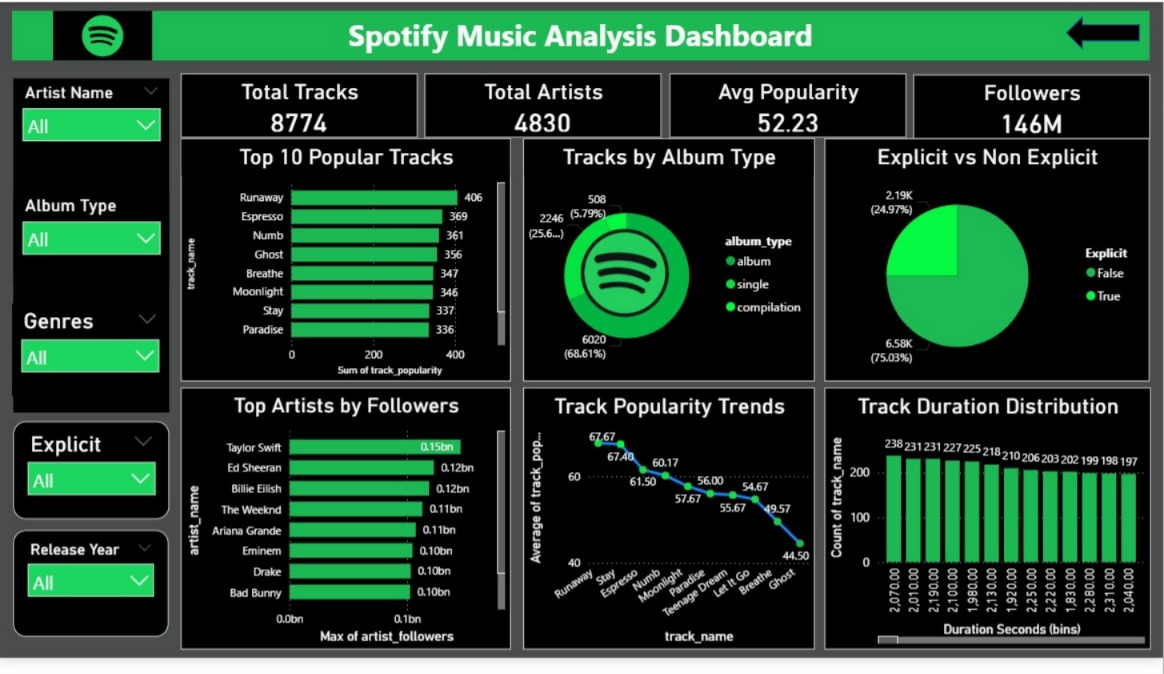

What the dashboard file says about the page in this screenshot:
{"tool":"powerbi","page":{"name":"Dashboard","canvas":[1280,720],"ordinal":1},"visuals":[{"type":"slicer","fields":{"Values":["track_data_final.artist_name"]},"box":[17.8,83.7,171.5,366.4],"z":0},{"type":"slicer","fields":{"Values":["track_data_final.album_type"]},"box":[17.8,207.2,171.5,100.2],"z":1000},{"type":"slicer","fields":{"Values":["track_data_final.artist_genres"]},"box":[16.5,330.7,171.5,101.5],"z":2000},{"type":"slicer","fields":{"Values":["track_data_final.explicit"]},"box":[17.8,459.7,171.5,107],"z":3000},{"type":"slicer","fields":{"Values":["track_data_final.album_release_date"]},"box":[17.8,579.1,170.2,116.6],"z":4000},{"type":"card","title":"Total Tracks","fields":{"Values":["CountNonNull(track_data_final.track_id)"]},"box":[201.4,78.6,260,70],"z":5000},{"type":"card","title":"Total Artists","fields":{"Values":["Count(track_data_final.album_name)"]},"box":[469.3,78.2,260,70],"z":6000},{"type":"card","title":"Avg Popularity","fields":{"Values":["Avg(track_data_final.track_popularity)"]},"box":[738.3,78.2,260,70],"z":7000},{"type":"card","title":"Followers","fields":{"Values":["Max(track_data_final.artist_followers)"]},"box":[1005.7,80,260,70],"z":8000},{"type":"clusteredBarChart","title":"Top 10 Popular Tracks","fields":{"Category":["track_data_final.track_name"],"Y":["Sum(track_data_final.track_popularity)"]},"box":[201.7,149.6,362.3,266.2],"z":9000},{"type":"donutChart","title":" Tracks by Album Type","fields":{"Category":["track_data_final.album_type"],"Y":["CountNonNull(track_data_final.track_id)"]},"box":[577.1,150,320,266],"z":10000},{"type":"pieChart","title":"Explicit vs Non Explicit","fields":{"Category":["track_data_final.explicit"],"Y":["CountNonNull(track_data_final.track_name)"]},"box":[908.4,149.6,356.8,266.2],"z":11000},{"type":"textbox","box":[16.5,9.6,1250.1,54.9],"z":12000},{"type":"clusteredBarChart","title":"Top Artists by Followers","fields":{"Y":["Max(track_data_final.artist_followers)"],"Category":["track_data_final.artist_name"]},"box":[201.7,422.6,362.3,287],"z":13000},{"type":"lineChart","title":"Track Popularity Trends ","fields":{"Category":["track_data_final.track_name"],"Y":["Avg(track_data_final.track_popularity)"]},"box":[578,423,320,287],"z":14000},{"type":"clusteredColumnChart","title":" Track Duration Distribution","fields":{"Category":["track_data_final.Duration Seconds (bins)"],"Y":["CountNonNull(track_data_final.track_name)"]},"box":[908,423,358,287],"z":15000},{"type":"image","box":[44.3,10,144.3,54.3],"z":16000},{"type":"image","box":[641.4,247.1,97.1,100],"z":17000},{"type":"shape","box":[1172.9,15.7,81.4,37.1],"z":18000}]}

Visuals, with their boxes in screenshot pixels (x1, y1, x2, y2), scaled from the page's 1280x720 canvas onto the 1164x674 screenshot:
slicer - track_data_final.artist_name: <box>16,78,172,421</box>
slicer - track_data_final.album_type: <box>16,194,172,288</box>
slicer - track_data_final.artist_genres: <box>15,310,171,405</box>
slicer - track_data_final.explicit: <box>16,430,172,530</box>
slicer - track_data_final.album_release_date: <box>16,542,171,651</box>
"Total Tracks" card: <box>183,74,420,139</box>
"Total Artists" card: <box>427,73,663,139</box>
"Avg Popularity" card: <box>671,73,908,139</box>
"Followers" card: <box>915,75,1151,140</box>
"Top 10 Popular Tracks" clusteredBarChart: <box>183,140,513,389</box>
" Tracks by Album Type" donutChart: <box>525,140,816,389</box>
"Explicit vs Non Explicit" pieChart: <box>826,140,1151,389</box>
textbox: <box>15,9,1152,60</box>
"Top Artists by Followers" clusteredBarChart: <box>183,396,513,664</box>
"Track Popularity Trends " lineChart: <box>526,396,817,665</box>
" Track Duration Distribution" clusteredColumnChart: <box>826,396,1151,665</box>
image: <box>40,9,172,60</box>
image: <box>583,231,672,325</box>
shape: <box>1067,15,1141,49</box>
